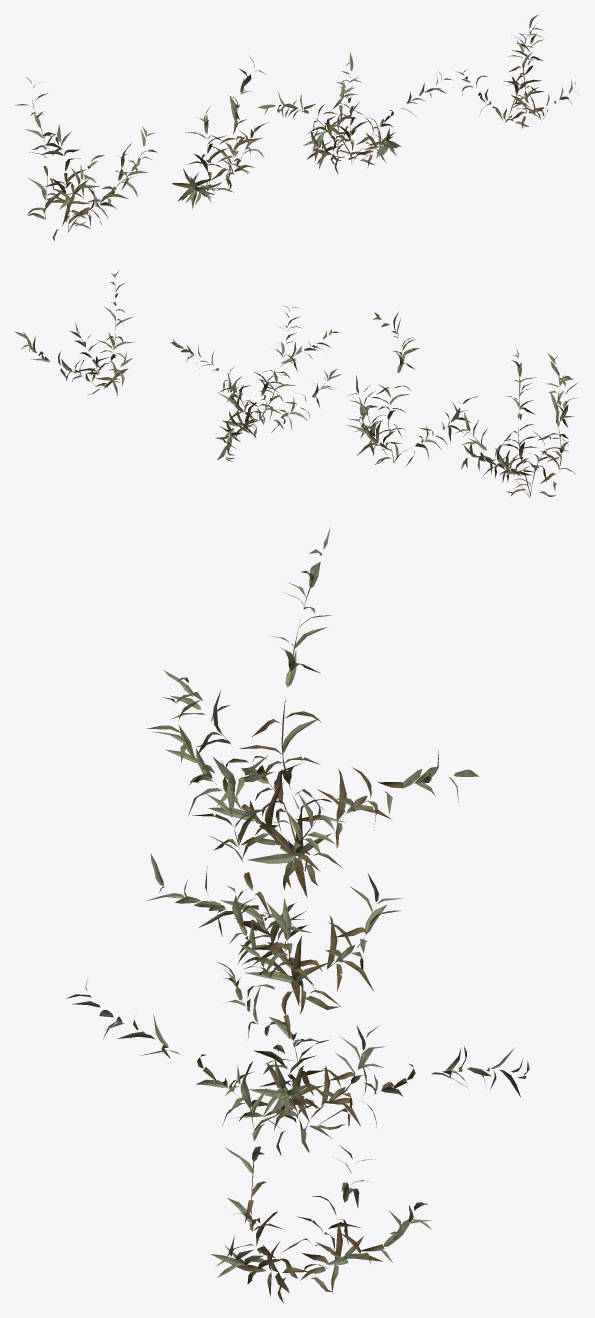
The model's file is shrub_02.glb.
The picture shows the model from 3 angles, top to bottom: view 1: azimuth 30°, elevation 25°; view 2: azimuth 150°, elevation 25°; view 3: azimuth 270°, elevation 25°; orthographic projection. The views are drawn at different scales.
Parts seen in each view (by area): view 1: shrub_02_a; view 2: shrub_02_a; view 3: shrub_02_a.
Part boxes in pixels (x1=…): shrub_02_a: x1=15, y1=14, x2=578, y2=240; shrub_02_a: x1=14, y1=270, x2=578, y2=497; shrub_02_a: x1=66, y1=527, x2=529, y2=1303.
Size of the model in its own units: 6.05 by 1.7 by 2.28.
Materials: 1 (1 with a texture image).
